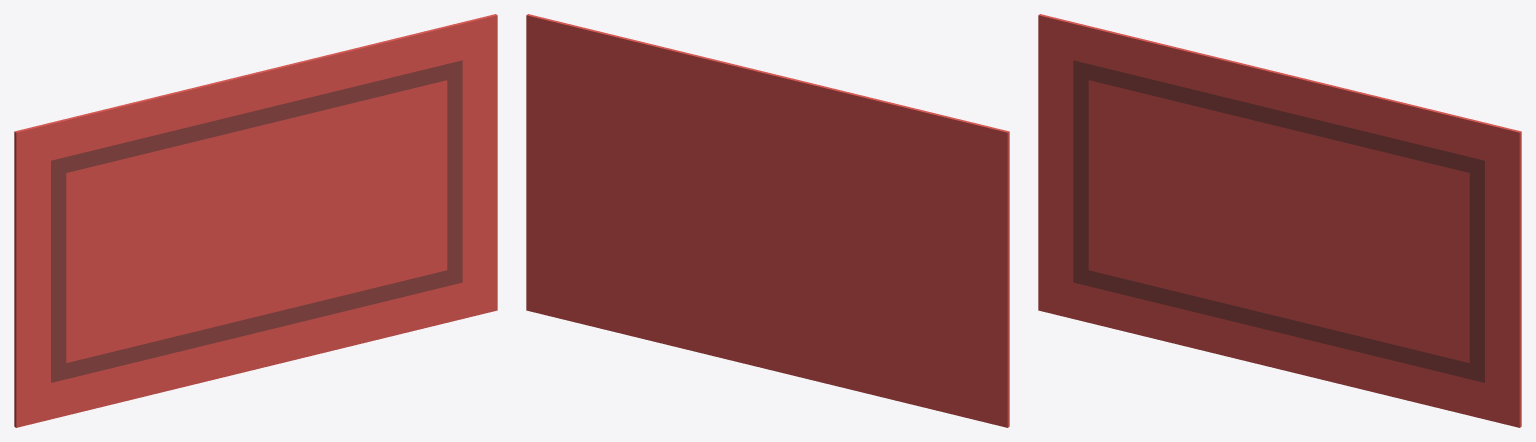
File: rugRectangle.obj
3 renders of one model, left to right at view 1: azimuth 30°, elevation 25°; view 2: azimuth 150°, elevation 25°; view 3: azimuth 330°, elevation 25°, orthographic.
Visible parts, largest first — view 1: rugRectangle; view 2: rugRectangle; view 3: rugRectangle.
Boxes of the visible parts, x1,y1,x2,y2 form: rugRectangle: [14, 14, 497, 427]; rugRectangle: [526, 14, 1009, 427]; rugRectangle: [1038, 14, 1521, 427].
Bounding box in the file's own units: 3.14 × 1.84 × 0.02.
